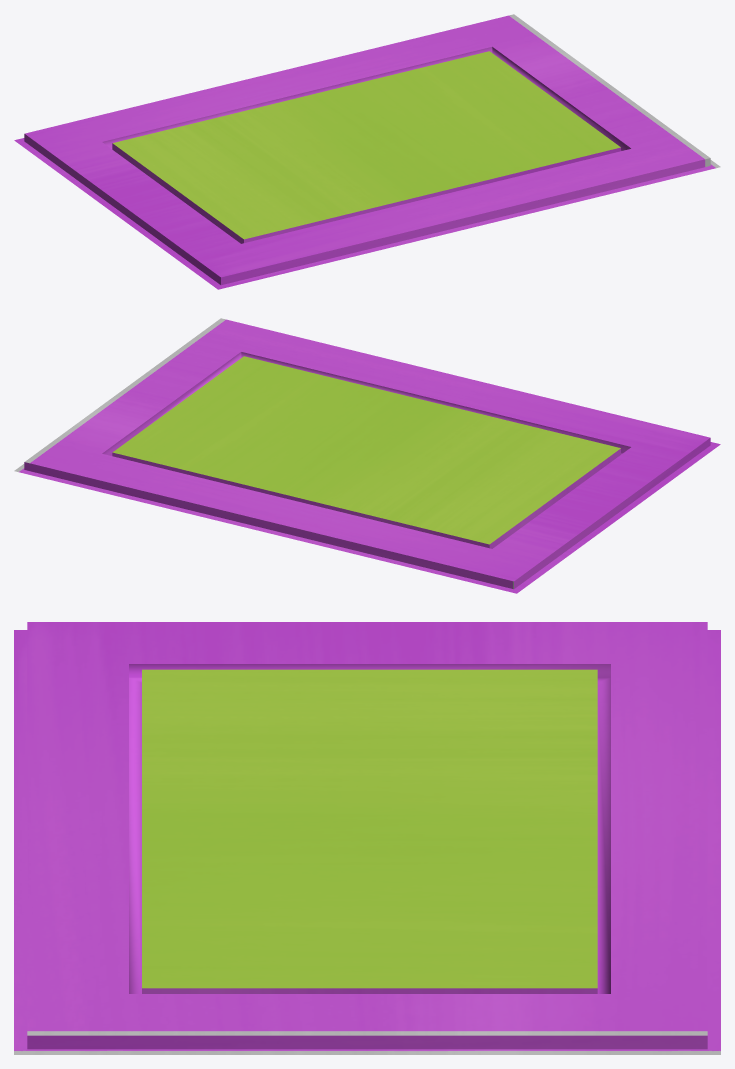
File: Floor5.fbx
3 views of the same model, one above another, from view 1: azimuth 30°, elevation 25°; view 2: azimuth 150°, elevation 25°; view 3: azimuth 270°, elevation 25° (orthographic). The views are drawn at different scales.
Visible parts, largest first — view 1: fLOOR.001; view 2: fLOOR.001; view 3: fLOOR.001.
Boxes of the visible parts, <box> form: fLOOR.001: <box>14,14,720,289</box>; fLOOR.001: <box>14,318,720,593</box>; fLOOR.001: <box>14,622,720,1054</box>.
Size of the model in its own units: 200 by 2.99 by 141.
